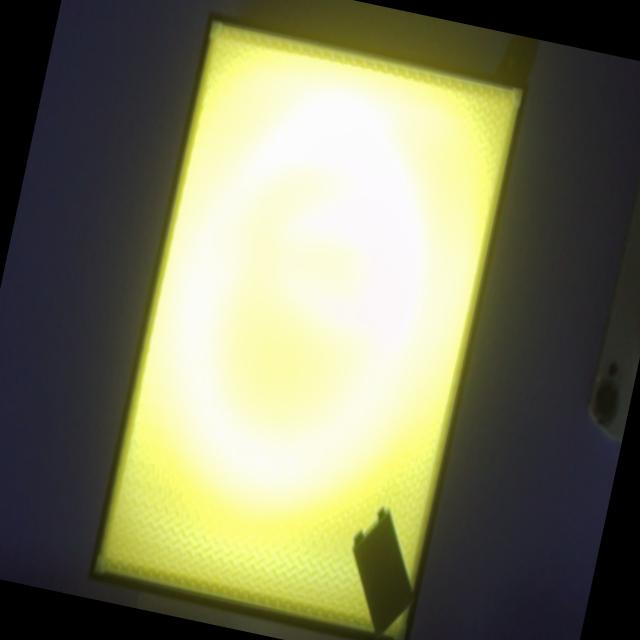bateria: (352, 509, 414, 635)
mesa: (88, 11, 530, 640)
